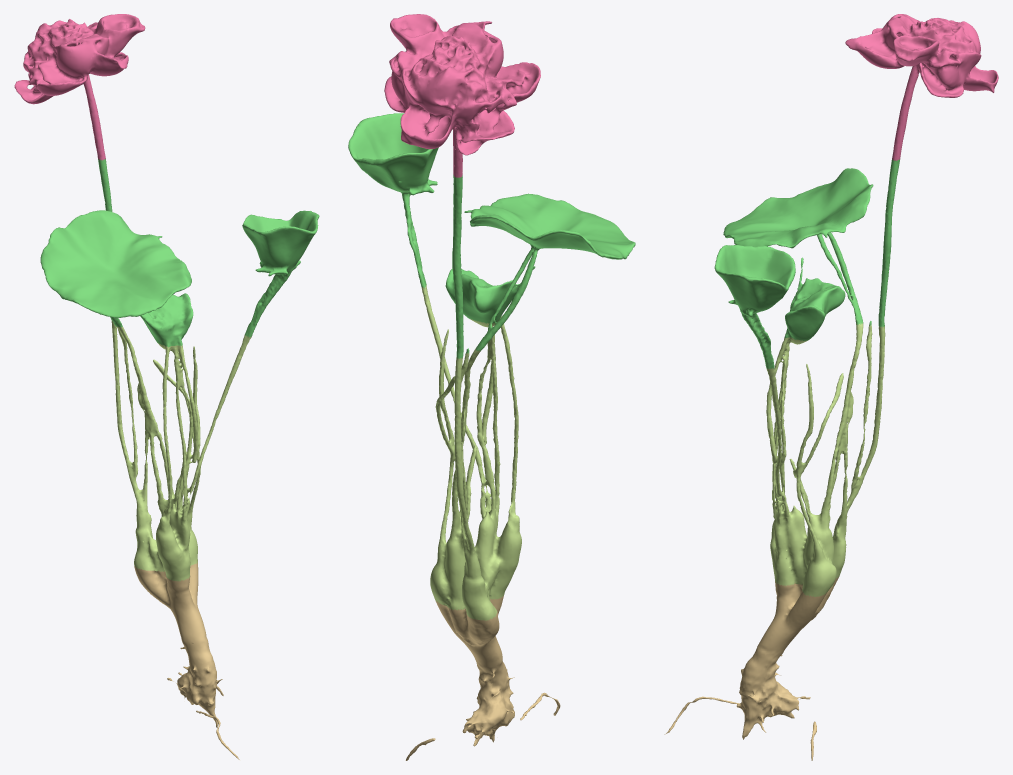
Rendered from lotus-root-parts_2026-06-14_pre-core-split.glb.
The picture shows the model from 3 angles, left to right: view 1: azimuth 30°, elevation 25°; view 2: azimuth 150°, elevation 25°; view 3: azimuth 270°, elevation 25°; orthographic projection. The views are drawn at different scales.
Visible parts, largest first — view 1: leaf, stem, flower, root; view 2: leaf, flower, stem, root; view 3: leaf, stem, flower, root.
Boxes of the visible parts, bbox=[...] form: leaf: bbox=[40, 159, 319, 347]; stem: bbox=[111, 320, 251, 581]; flower: bbox=[14, 14, 145, 160]; root: bbox=[134, 561, 239, 759]; leaf: bbox=[348, 113, 635, 358]; flower: bbox=[384, 14, 540, 177]; stem: bbox=[421, 285, 521, 620]; root: bbox=[405, 595, 560, 760]; leaf: bbox=[714, 159, 899, 368]; stem: bbox=[766, 323, 885, 596]; flower: bbox=[845, 14, 998, 160]; root: bbox=[664, 576, 839, 760].
Bounding box in the file's own units: 0.7648 × 1.98 × 0.8669.
